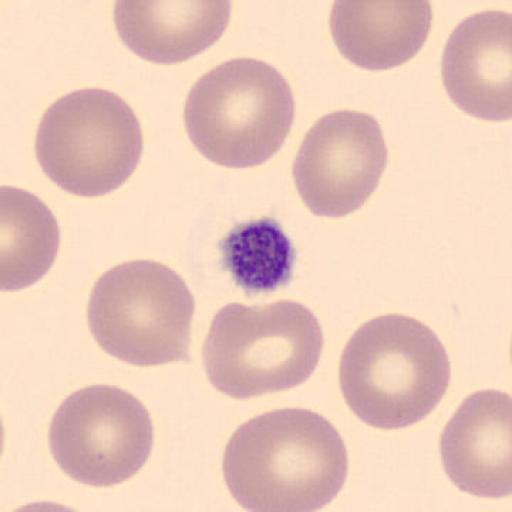Platelet: (217, 214, 299, 297)
RBC: (336, 310, 454, 433), (220, 405, 352, 512), (181, 54, 298, 170), (200, 298, 326, 400), (33, 86, 145, 200), (85, 257, 197, 371), (46, 381, 155, 489), (291, 106, 389, 220), (439, 7, 512, 124), (438, 386, 512, 501), (112, 0, 234, 68), (327, 0, 435, 73), (2, 184, 61, 294), (0, 496, 102, 511)
